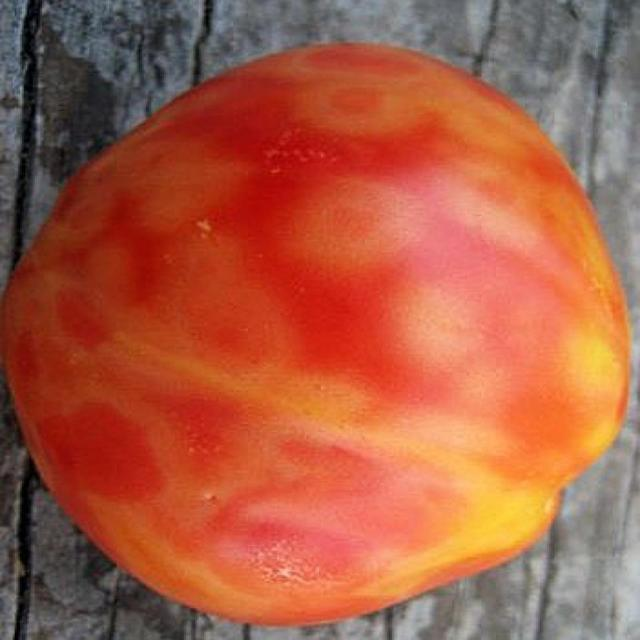Spotted wilt Virus Fruit: (0, 28, 416, 414)
